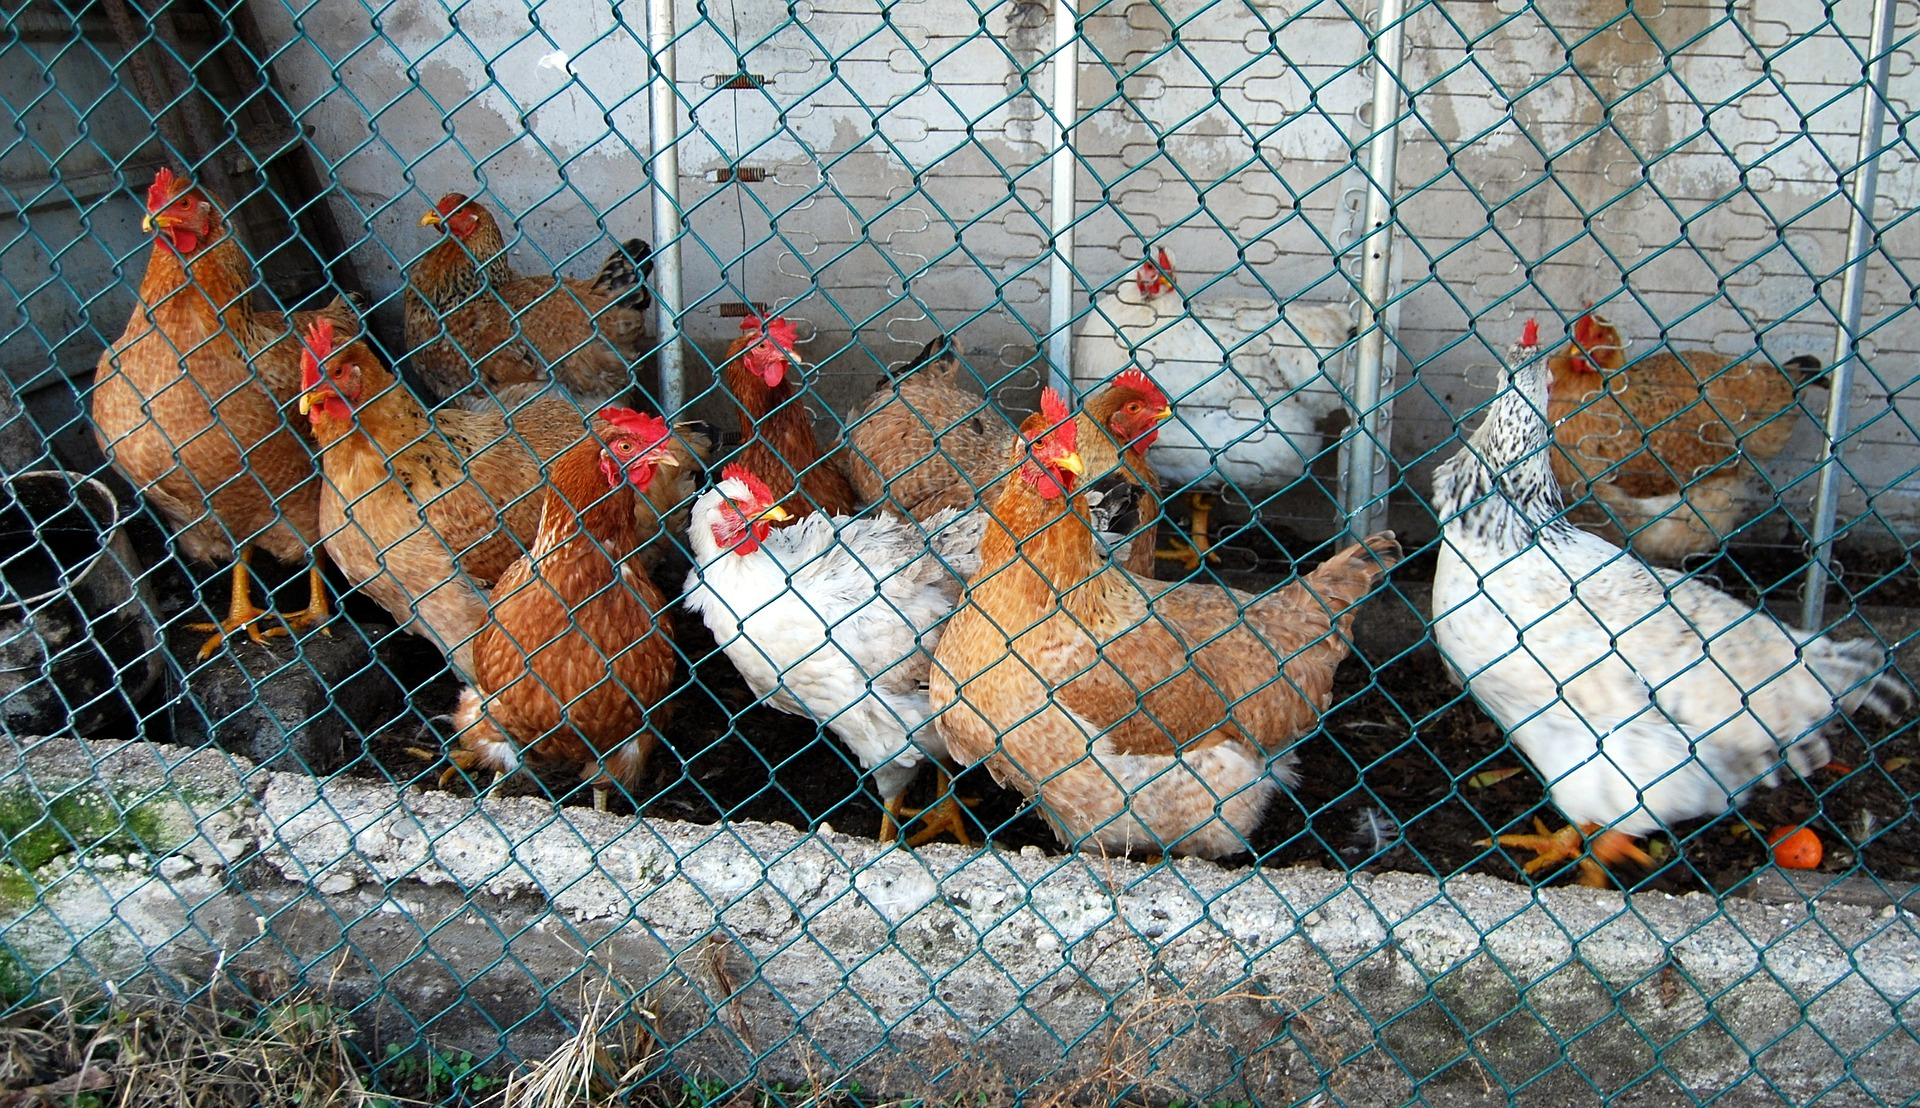chicken: (1439, 334, 1851, 886), (959, 383, 1379, 849), (284, 313, 644, 743), (57, 149, 371, 613), (662, 452, 963, 814), (1080, 241, 1369, 533), (853, 323, 1187, 563), (1559, 293, 1820, 567), (489, 412, 684, 777), (388, 200, 702, 419), (692, 311, 851, 518)
